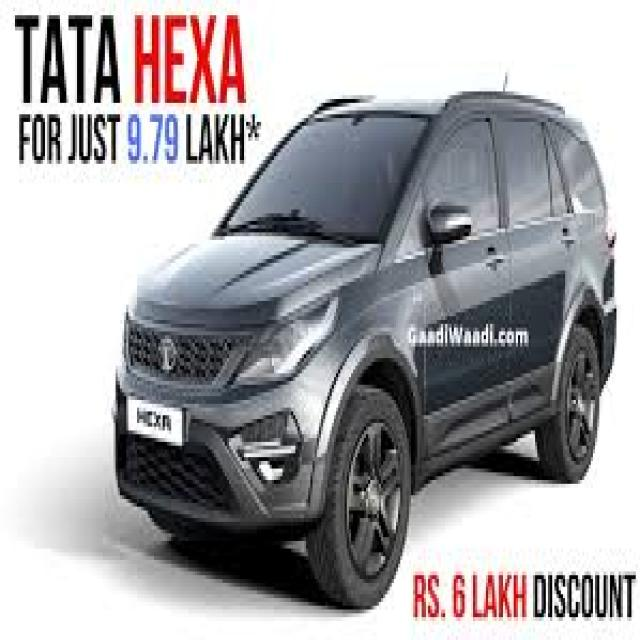car: (107, 85, 628, 623)
